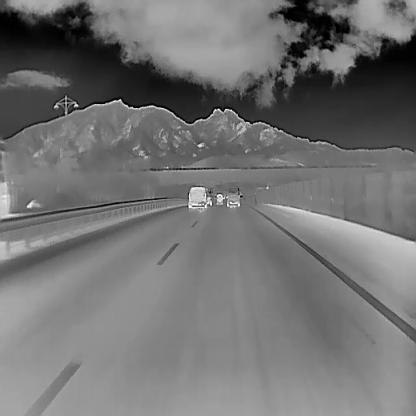car: (187, 184, 206, 209), (225, 184, 240, 207), (215, 192, 223, 204), (206, 195, 213, 206)
